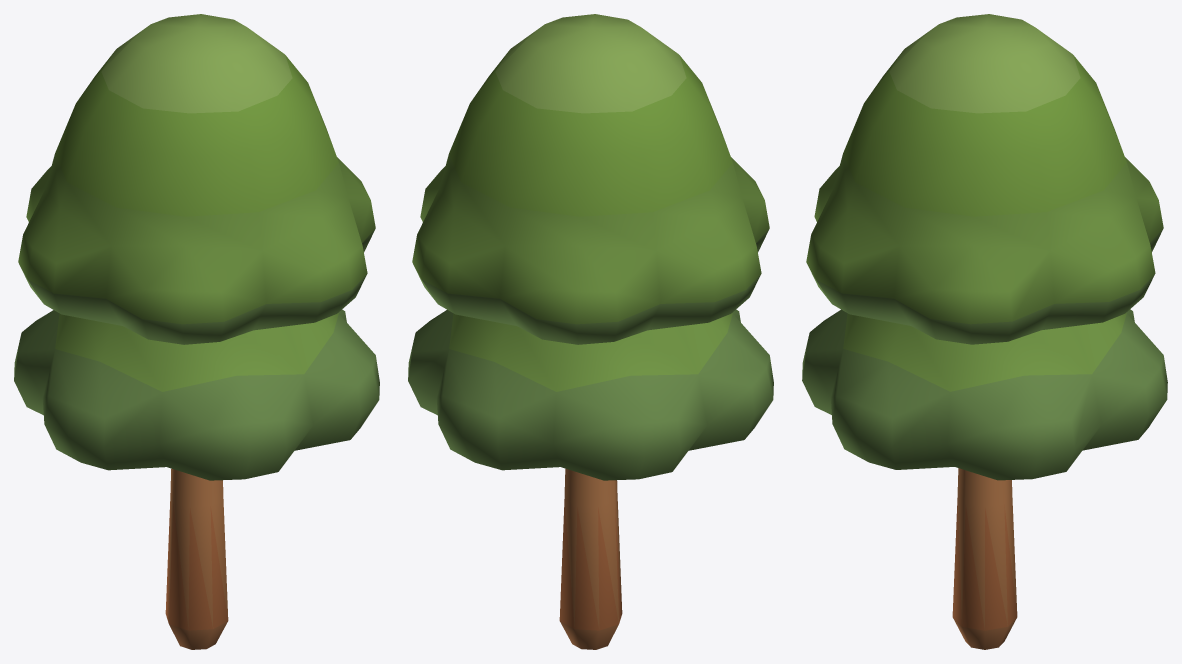
Rendered from itch_tiny_pretty_park_tree_large.glb.
3 views of the same model, side by side, from view 1: azimuth 30°, elevation 25°; view 2: azimuth 150°, elevation 25°; view 3: azimuth 270°, elevation 25° (orthographic).
Parts seen in each view (by area): view 1: tree_large; view 2: tree_large; view 3: tree_large.
Part boxes in pixels (x1,y1,x2,y2): tree_large: (14, 14, 379, 649); tree_large: (408, 14, 773, 649); tree_large: (802, 14, 1167, 649).
Bounding box in the file's own units: 1.22 × 2.21 × 1.19.
